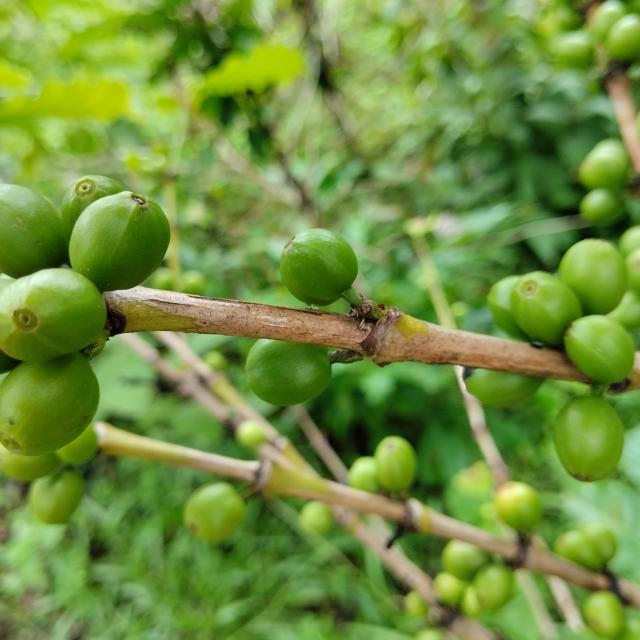green: (68, 191, 170, 292), (0, 352, 99, 456), (0, 268, 106, 361), (0, 184, 67, 278), (280, 228, 358, 306), (555, 396, 625, 482), (246, 339, 332, 406), (511, 271, 583, 346), (560, 238, 629, 315), (565, 315, 636, 384), (60, 175, 122, 238), (183, 483, 245, 543), (465, 369, 545, 407), (488, 275, 530, 340)
